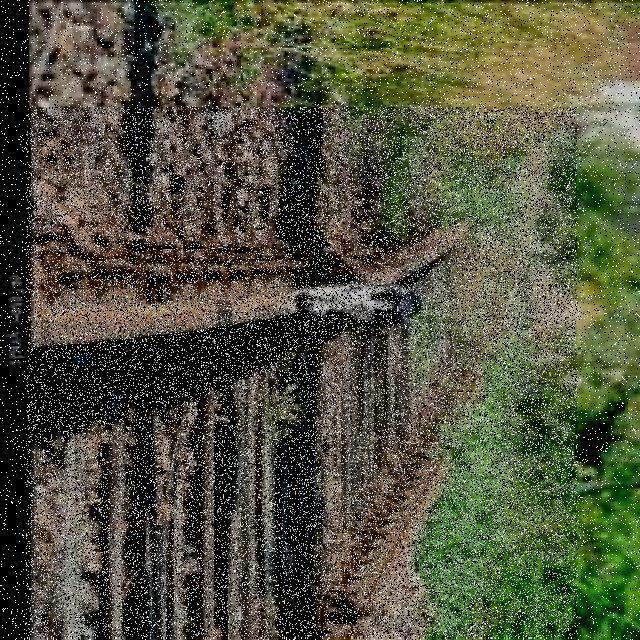rail: (28, 108, 578, 639)
